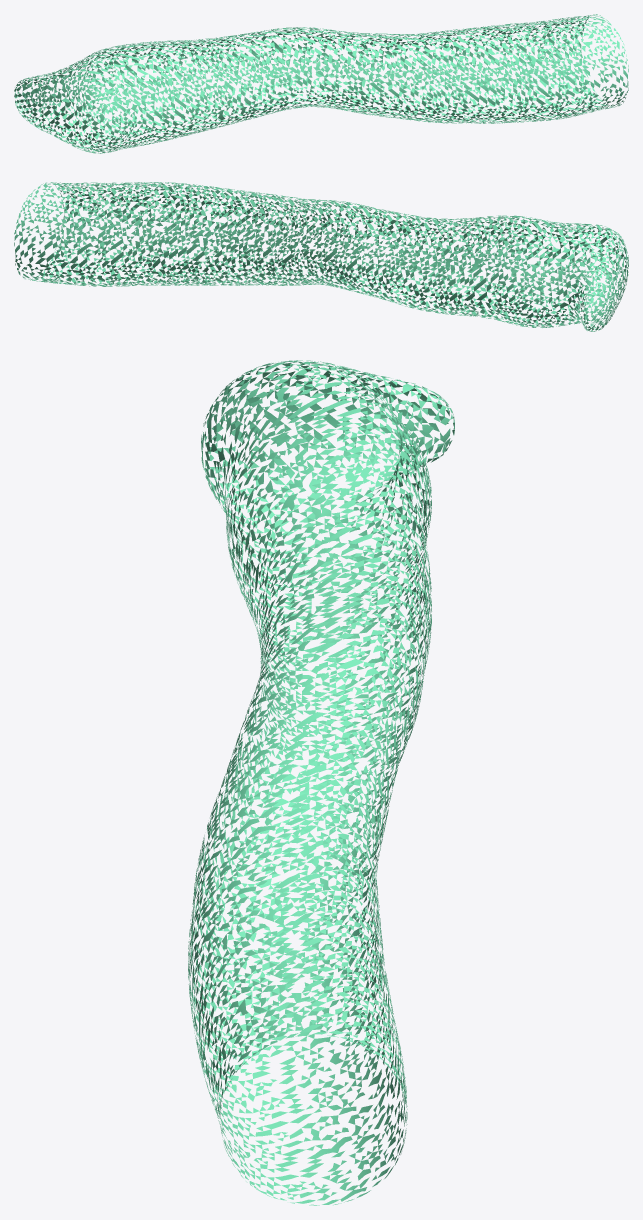
The model's file is healthy.glb.
3 views of the same model, one above another, from view 1: azimuth 30°, elevation 25°; view 2: azimuth 150°, elevation 25°; view 3: azimuth 270°, elevation 25° (orthographic). The views are drawn at different scales.
Bounding box in the file's own units: 103 × 29.31 × 21.11.
